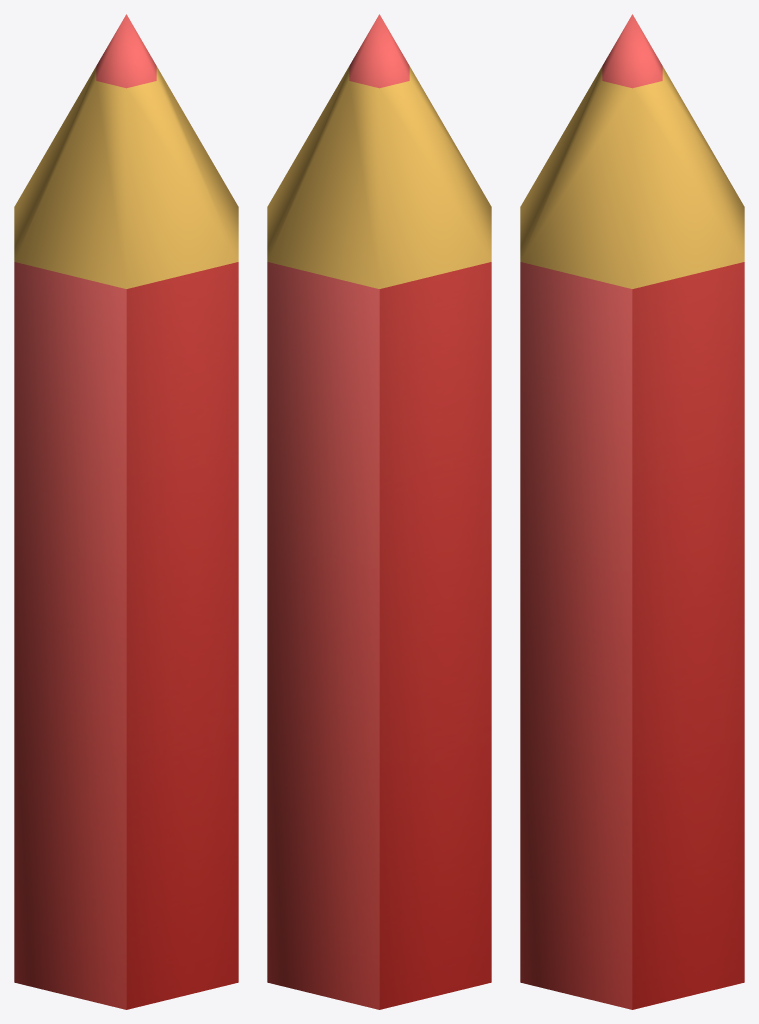
The model's file is SM_Pencil03.fbx.
The picture shows the model from 3 angles, left to right: view 1: azimuth 30°, elevation 25°; view 2: azimuth 150°, elevation 25°; view 3: azimuth 270°, elevation 25°; orthographic projection.
Visible parts, largest first — view 1: SM_Pencil03; view 2: SM_Pencil03; view 3: SM_Pencil03.
Boxes of the visible parts, box(x1,y1,x2,y2) form: SM_Pencil03: box(14, 14, 238, 1009); SM_Pencil03: box(267, 14, 491, 1009); SM_Pencil03: box(520, 14, 744, 1009).
Size of the model in its own units: 8 by 32.06 by 6.93.
